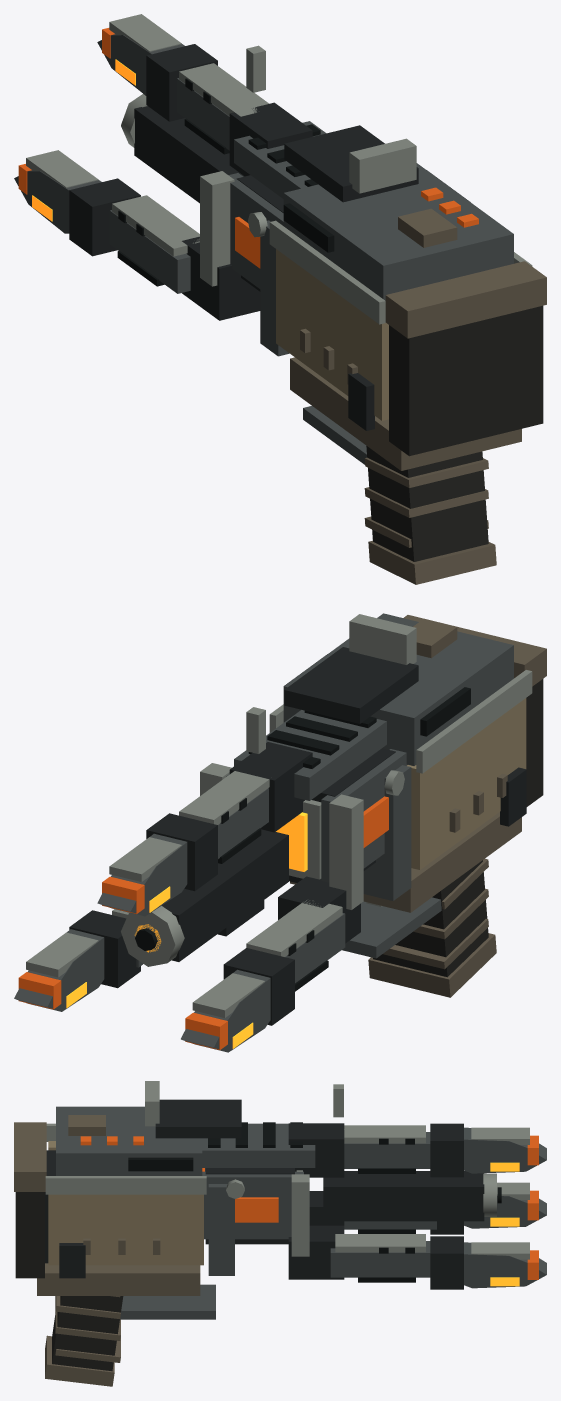
File: raptor.glb
3 views of the same model, one above another, from view 1: azimuth 30°, elevation 25°; view 2: azimuth 150°, elevation 25°; view 3: azimuth 270°, elevation 25° (orthographic). The views are drawn at different scales.
Parts seen in each view (by area): view 1: Merged_material (×9); view 2: Merged_material (×10); view 3: Merged_material (×10).
Boxes of the visible parts, left/top/right/bottom form: Merged_material (×9): left=14, top=14, right=546, bottom=584; Merged_material (×10): left=14, top=613, right=546, bottom=1052; Merged_material (×10): left=14, top=1081, right=546, bottom=1386.
Bounding box in the file's own units: 0.163 × 0.2996 × 0.5065.
